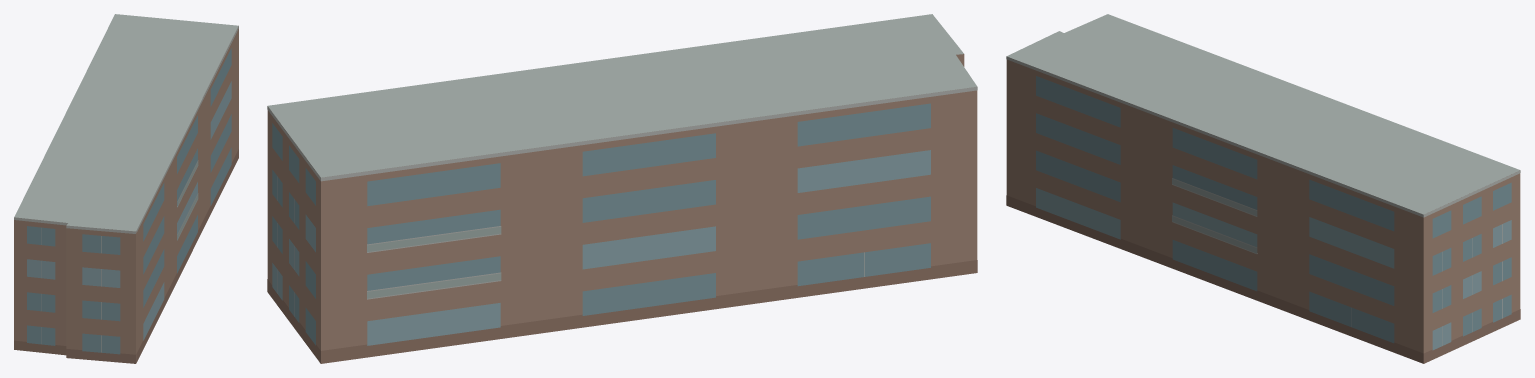
Rendered from survey-upis-32755416.glb.
3 renders of one model, left to right at view 1: azimuth 30°, elevation 25°; view 2: azimuth 150°, elevation 25°; view 3: azimuth 270°, elevation 25°, orthographic. The views are drawn at different scales.
Parts seen in each view (by area): view 1: survey-upis-32755416.tmp; view 2: survey-upis-32755416.tmp; view 3: survey-upis-32755416.tmp.
Boxes of the visible parts, x1,y1,x2,y2 form: survey-upis-32755416.tmp: (14,14,238,363); survey-upis-32755416.tmp: (267,14,977,363); survey-upis-32755416.tmp: (1006,14,1520,363).
Bounding box in the file's own units: 35.17 × 12.2 × 38.07.
